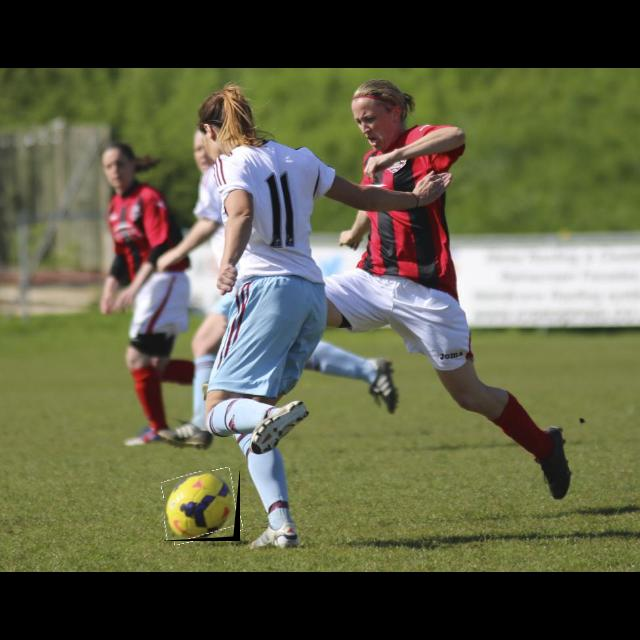Football: (164, 471, 240, 541)
